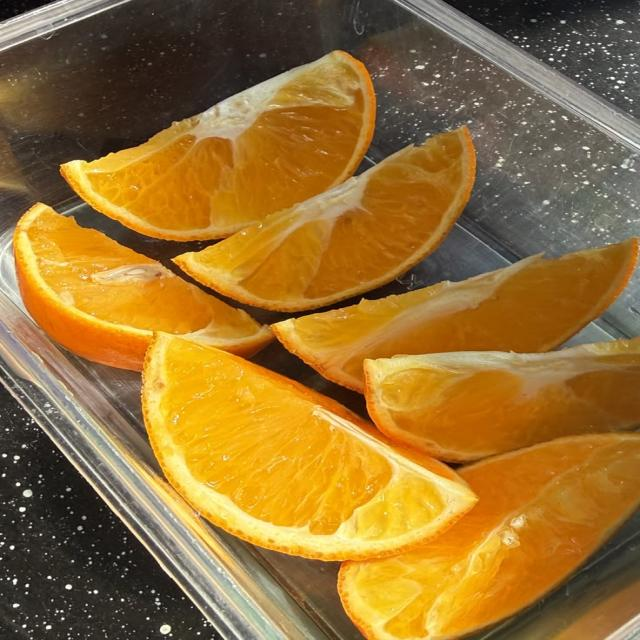orange: (142, 333, 475, 560), (339, 432, 639, 639), (61, 51, 374, 240), (272, 238, 638, 392), (175, 127, 475, 311), (14, 204, 272, 370), (363, 337, 640, 462)
